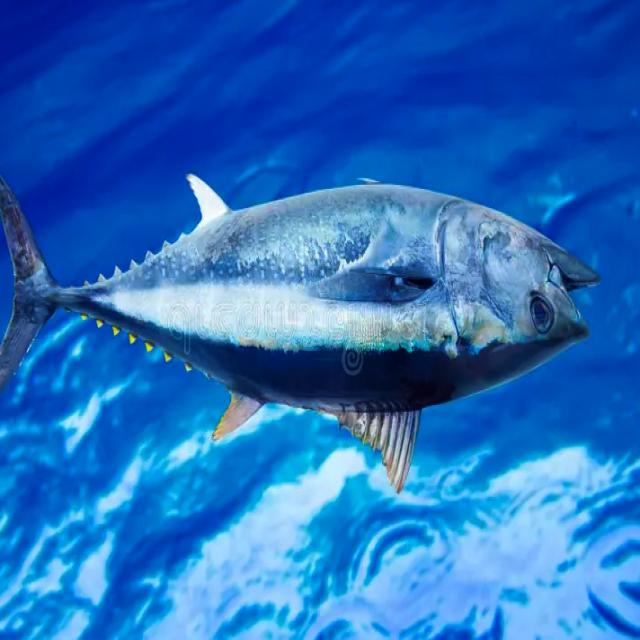Tuna: (0, 172, 600, 495)
